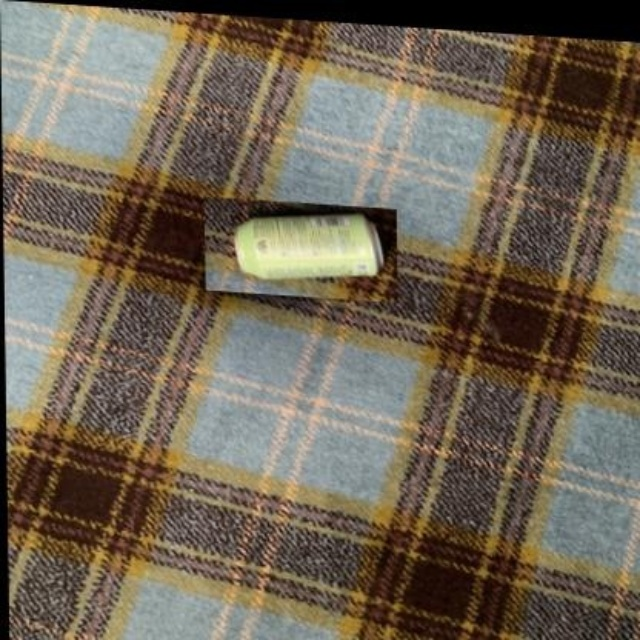trash: (234, 214, 382, 278)
